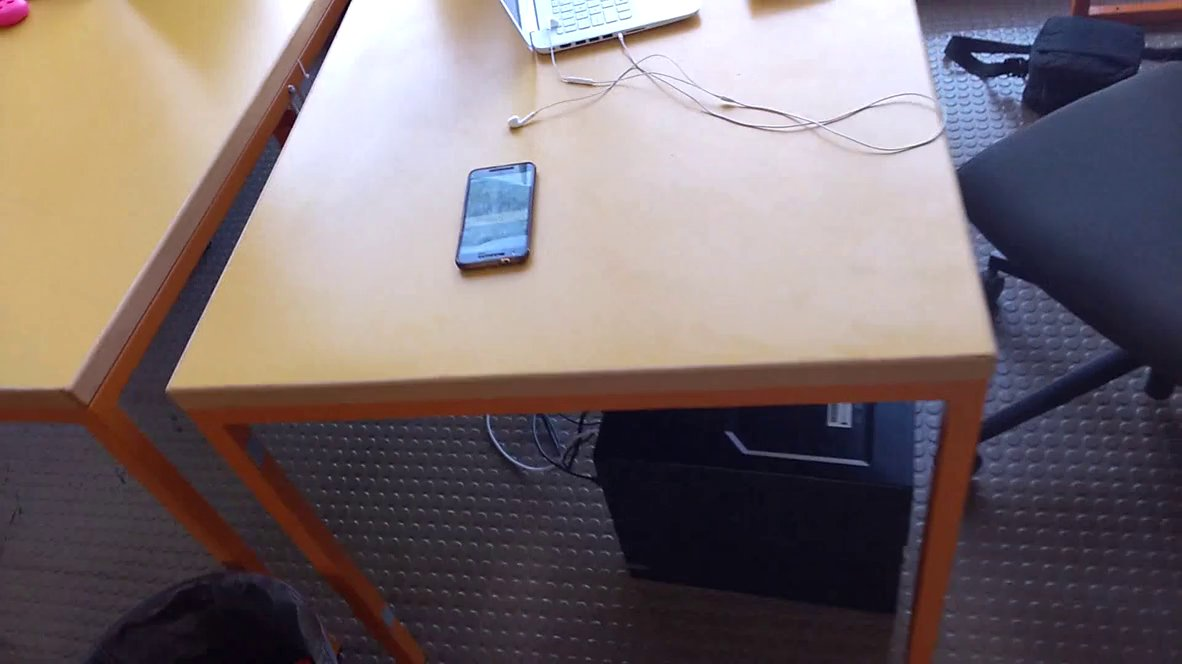phone: (449, 156, 550, 280)
